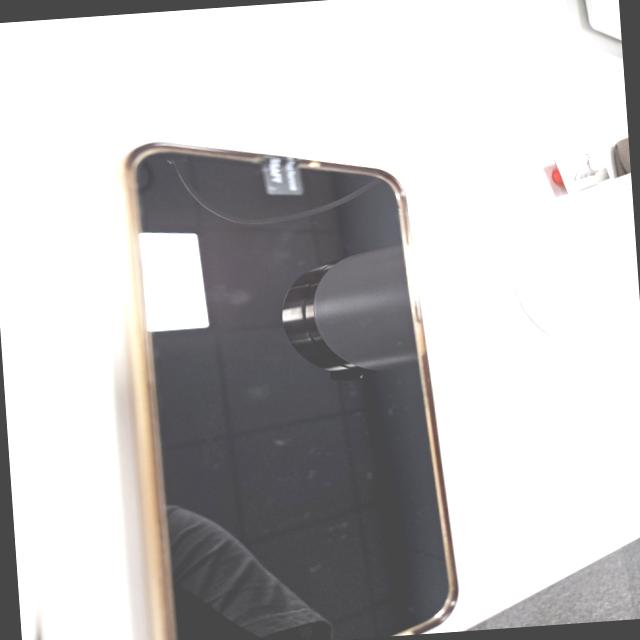phone: (108, 121, 453, 640)
sticker: (262, 153, 302, 195)
